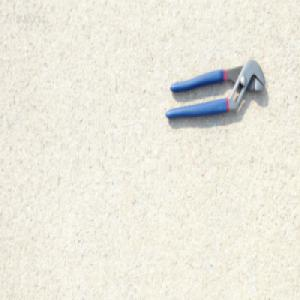Pliers: (164, 59, 265, 122)
